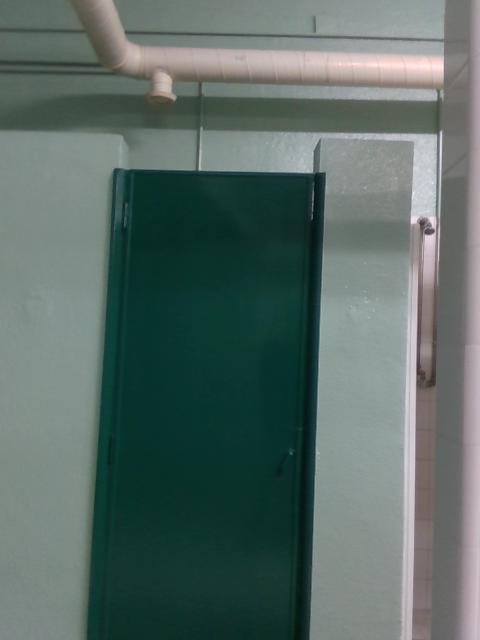door: (103, 168, 314, 640)
